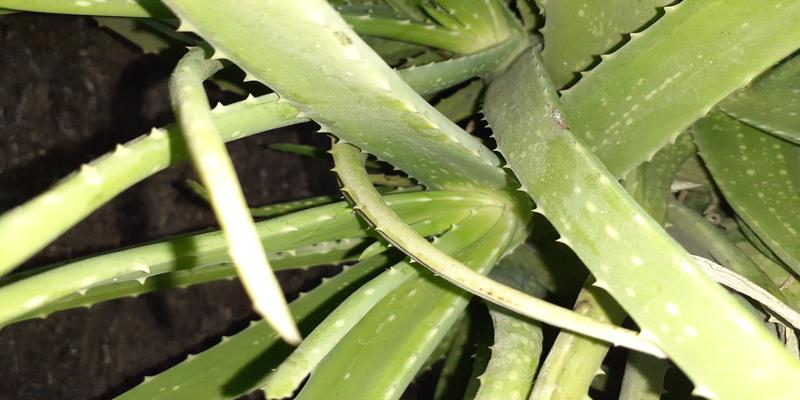Aloevera: (166, 26, 792, 355)
